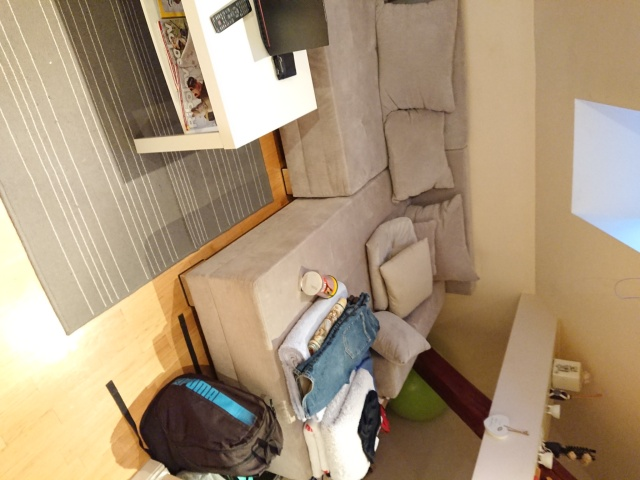Nescafe Classic 225g: (298, 269, 340, 300)
